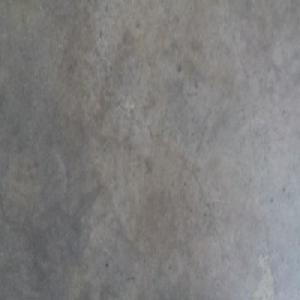Pliers: (190, 292, 201, 299)
